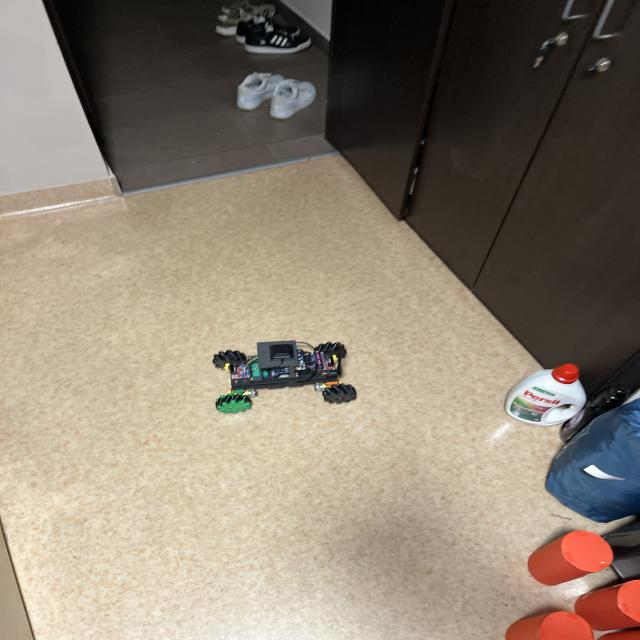robot: (213, 341, 356, 413)
